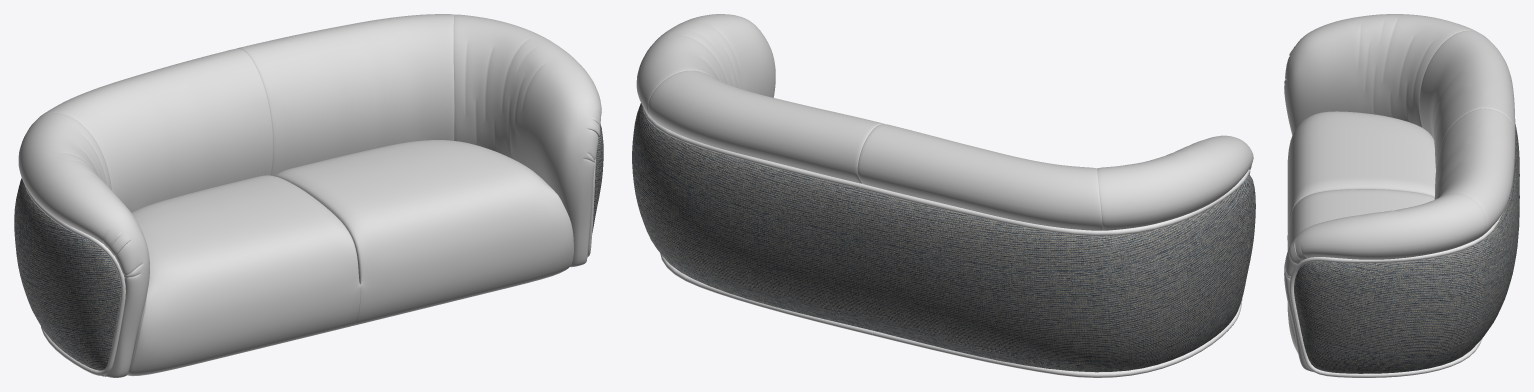
The model's file is SLN_Crazy_Daisy_2.5_Seater.glb.
3 renders of one model, left to right at view 1: azimuth 30°, elevation 25°; view 2: azimuth 150°, elevation 25°; view 3: azimuth 270°, elevation 25°, orthographic. The views are drawn at different scales.
Parts seen in each view (by area): view 1: Crazy_Daisy_2.5_Seater; view 2: Crazy_Daisy_2.5_Seater; view 3: Crazy_Daisy_2.5_Seater.
Boxes of the visible parts, left/top/right/bottom form: Crazy_Daisy_2.5_Seater: left=14, top=14, right=603, bottom=377; Crazy_Daisy_2.5_Seater: left=632, top=14, right=1255, bottom=377; Crazy_Daisy_2.5_Seater: left=1284, top=14, right=1519, bottom=377.
Size of the model in its own units: 2.62 by 0.9306 by 1.17.
Materials: 4 (1 with a texture image).
